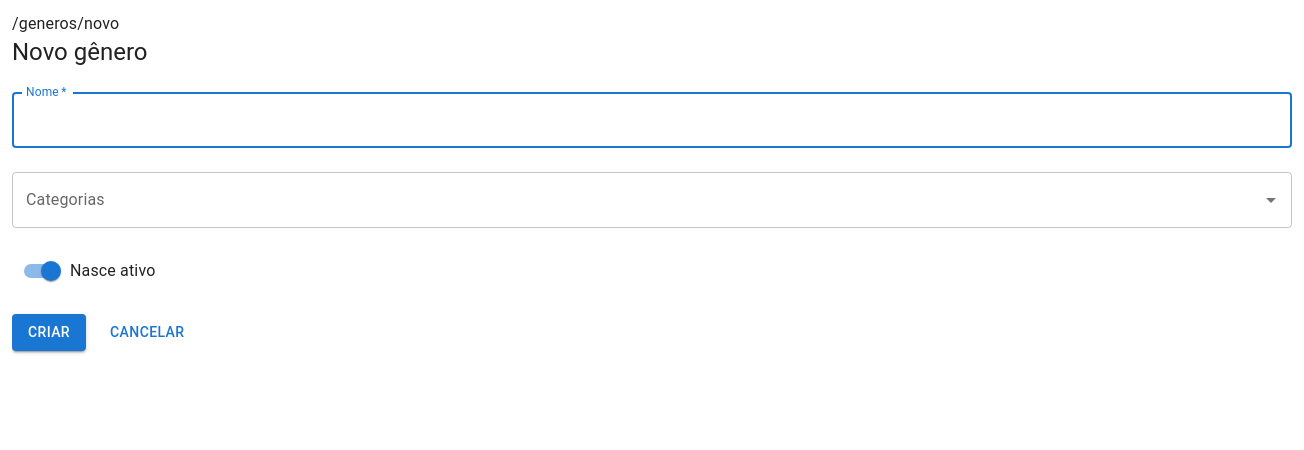
Test case: GenreCreate › given422DeCategoriaInexistente_whenCria_thenMostraAMensagemDaApi
Type "Ação" into the field labelled "Nome *" at (652, 120), box x1=12 y1=92 x2=1292 y2=148
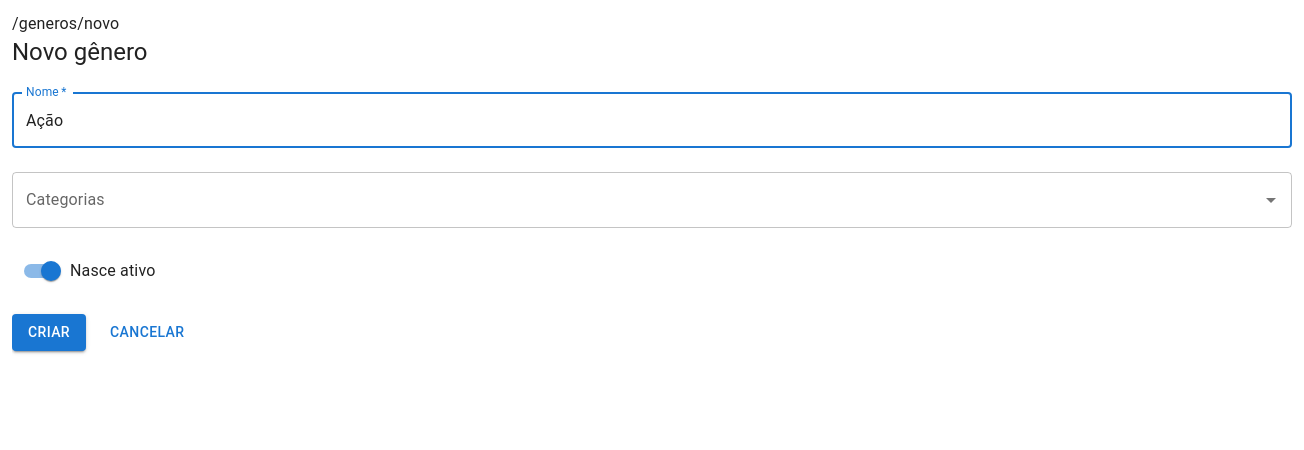
Click the button "Criar" at (49, 332), box x1=12 y1=314 x2=86 y2=350
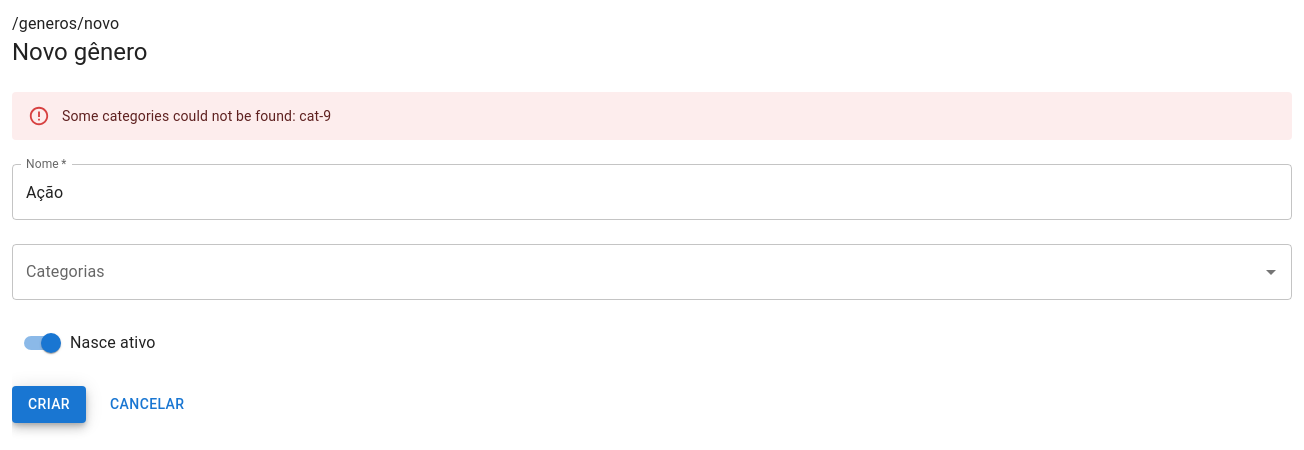
Expected: the text with test id "rota" reads "/generos/novo", x1=12 y1=14 x2=119 y2=33
Expected: the text "Some categories could not be found: cat-9" is shown, x1=62 y1=108 x2=331 y2=124
